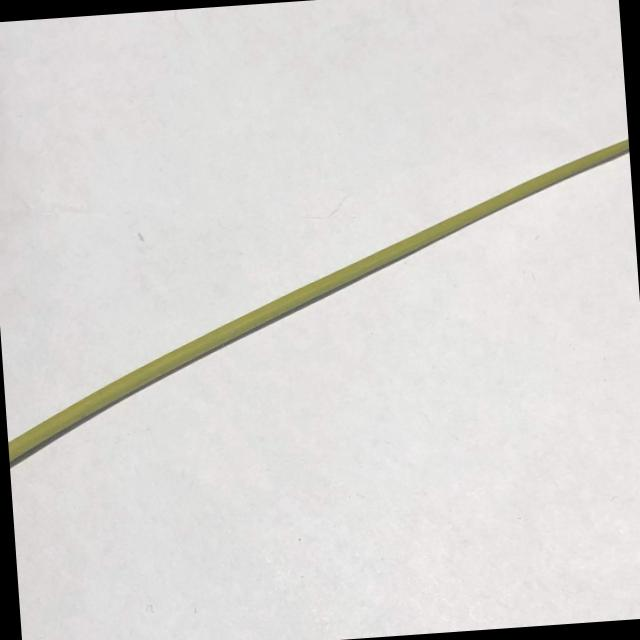Rice_Healthy: (8, 139, 629, 467)
